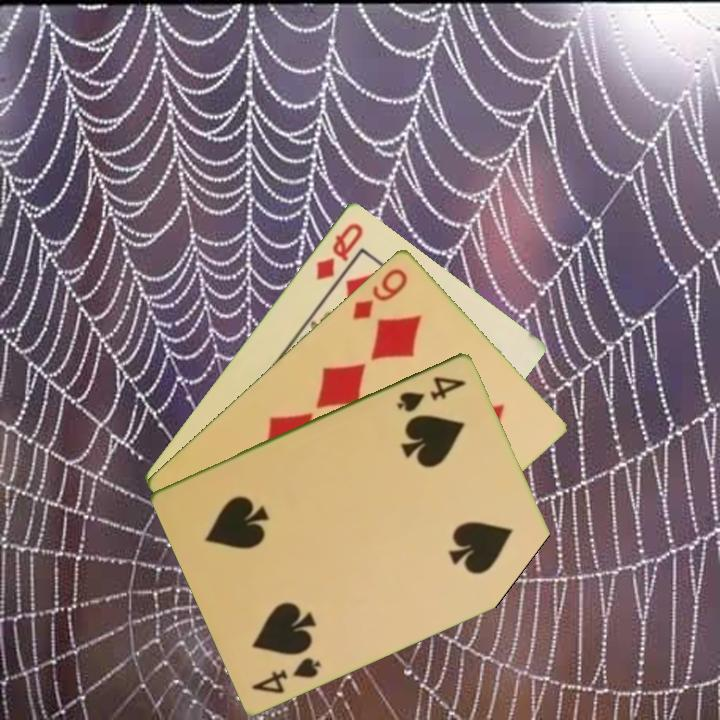4s: (393, 372, 470, 415), (248, 653, 324, 696)
9d: (348, 264, 411, 323)
Qd: (312, 218, 366, 283)
